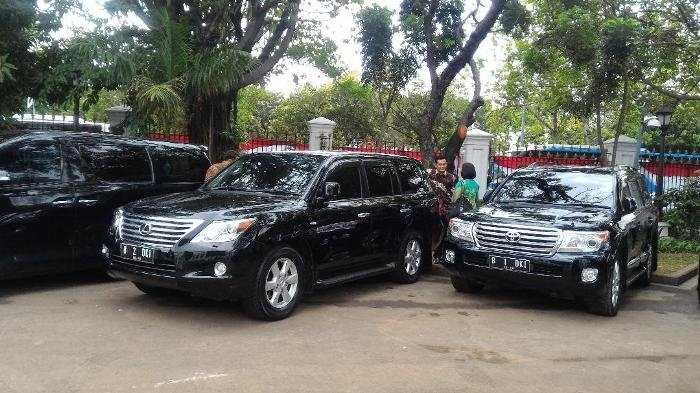plate: (491, 253, 530, 274), (122, 244, 153, 264)
